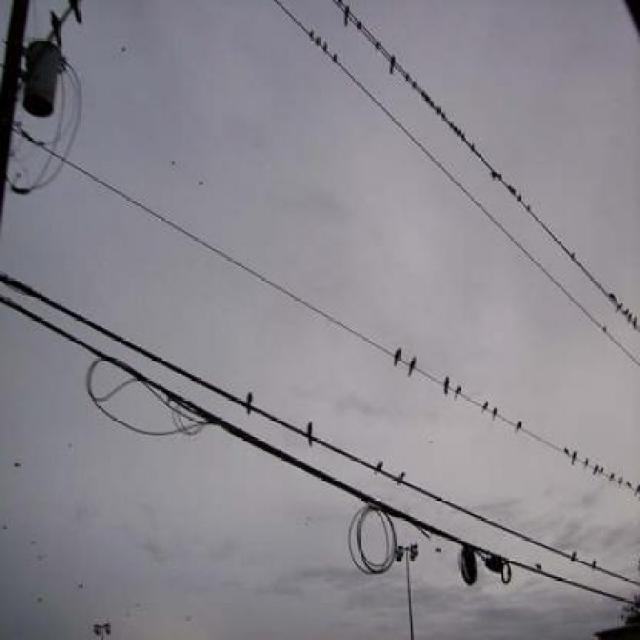pole: (0, 9, 85, 198)
